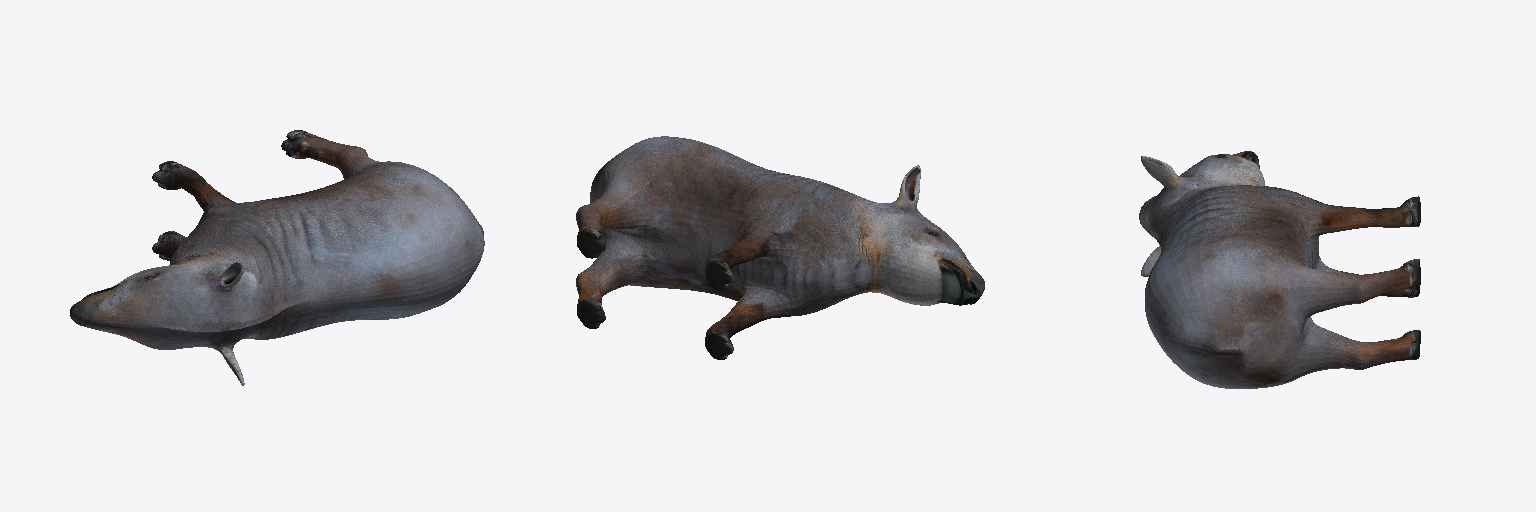
3 renders of one model, left to right at view 1: azimuth 30°, elevation 25°; view 2: azimuth 150°, elevation 25°; view 3: azimuth 270°, elevation 25°, orthographic.
Parts seen in each view (by area): view 1: tapir; view 2: tapir; view 3: tapir.
Boxes of the visible parts, box(x1,y1,x2,y2) form: tapir: box(70, 130, 484, 385); tapir: box(576, 136, 984, 359); tapir: box(1139, 151, 1420, 388).
Bounding box in the file's own units: 79.26 × 25.73 × 48.67.
1 materials, 1 textured.